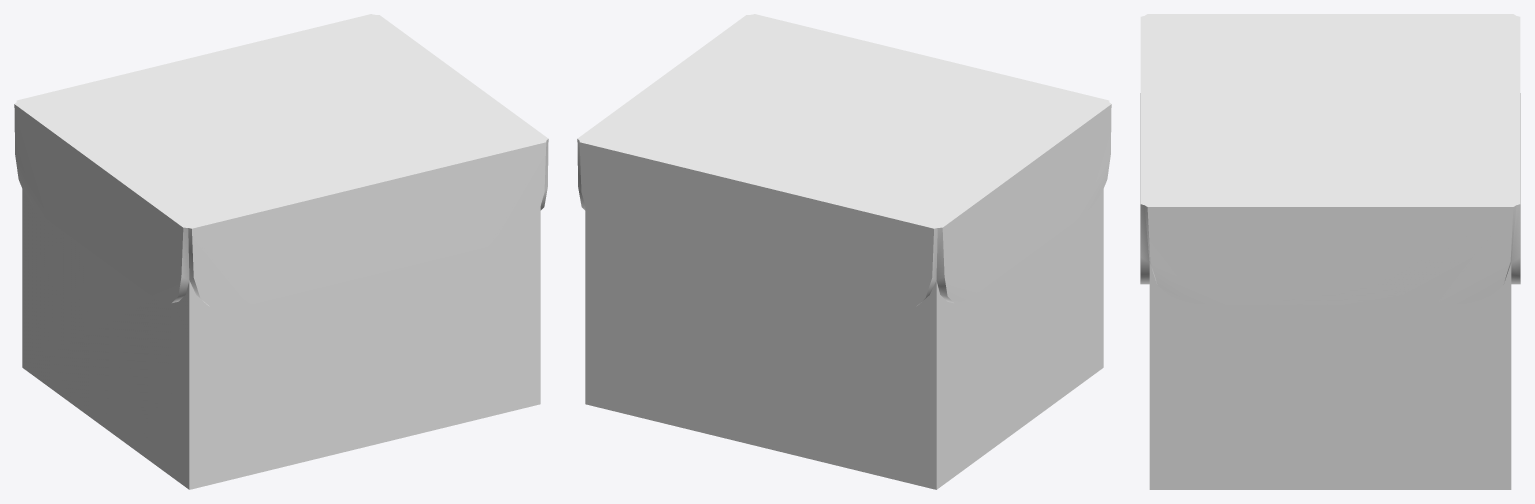
The model's file is Prfb_Starter.fbx.
3 views of the same model, side by side, from view 1: azimuth 30°, elevation 25°; view 2: azimuth 150°, elevation 25°; view 3: azimuth 270°, elevation 25° (orthographic). The views are drawn at different scales.
Parts seen in each view (by area): view 1: Mat_Lootbox_02 Normal; view 2: Mat_Lootbox_02 Normal; view 3: Mat_Lootbox_02 Normal.
Boxes of the visible parts, x1=… form: Mat_Lootbox_02 Normal: x1=14, y1=14, x2=548, y2=489; Mat_Lootbox_02 Normal: x1=577, y1=14, x2=1111, y2=489; Mat_Lootbox_02 Normal: x1=1140, y1=14, x2=1520, y2=489.
Size of the model in its own units: 0.8429 by 0.5818 by 0.6995.
Materials: 1 (1 with a texture image).
